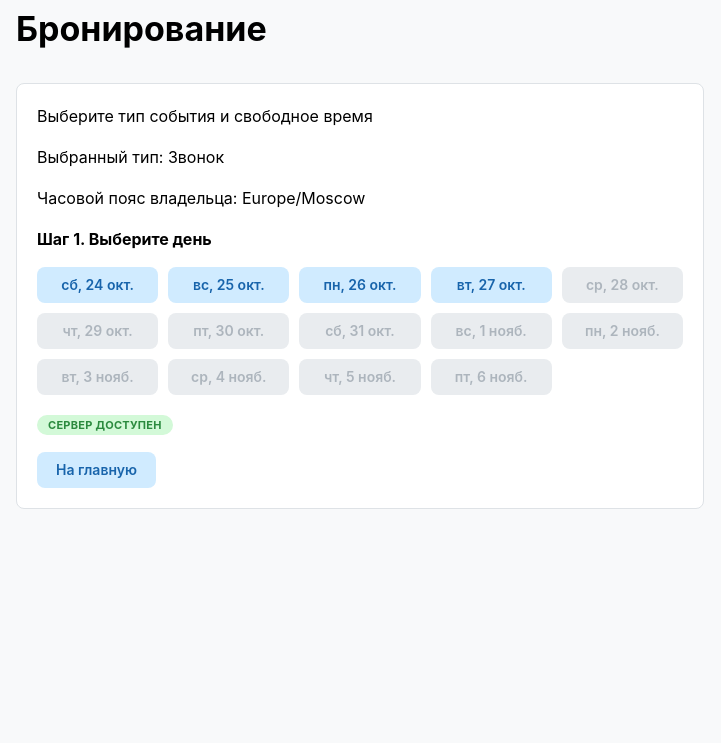
Test case: гость выбирает день и слот без прокрутки слотов других дней
Expected: the button "вс, 25 окт." is enabled, [168,267,289,303]
Expected: the button "6 ноя" is shown, [431,359,552,395]
Click the button "24 окт". click: (98, 285)
box: [37,267,158,303]
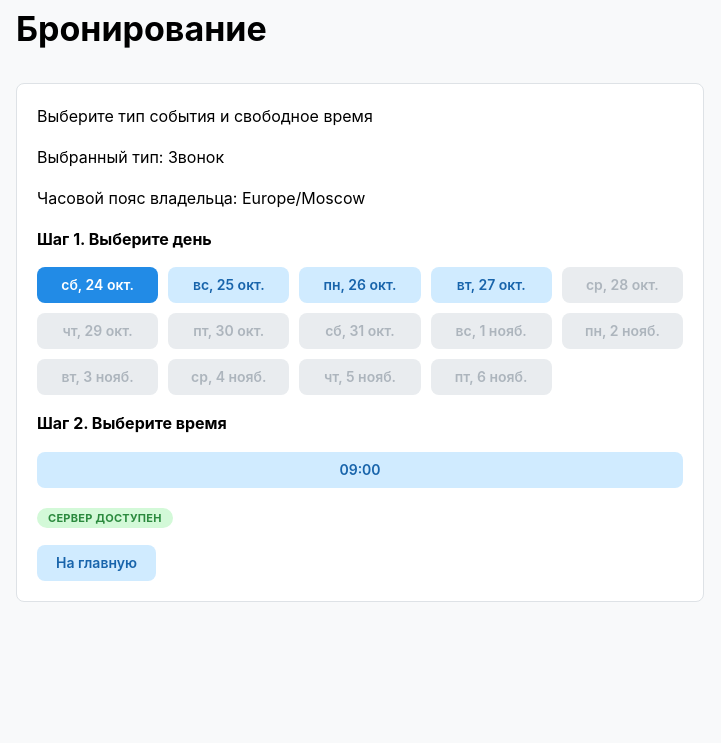
Now the button "09:00" is shown, box [37,452,683,488]
Click the button "пн, 26 окт.". click: (360, 285)
box: [299,267,421,303]
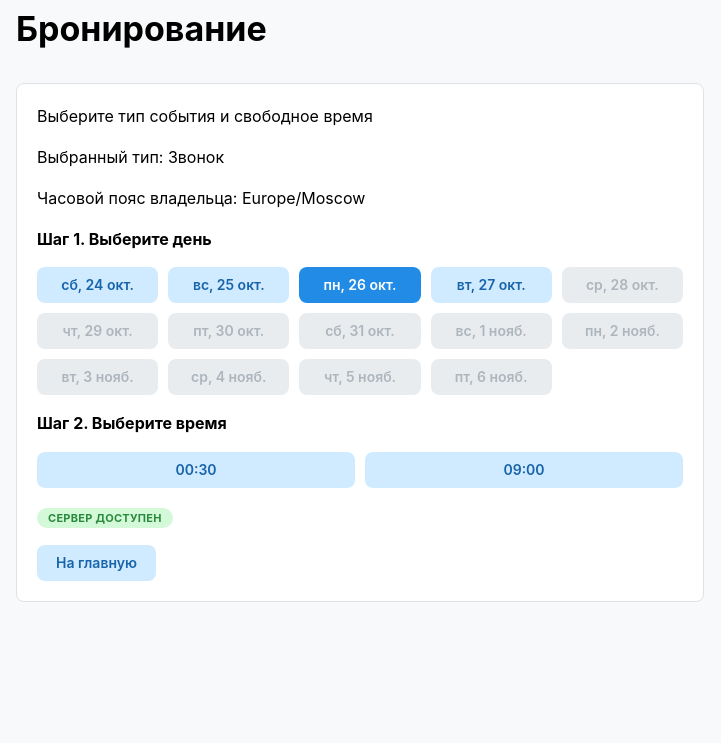
Now the text "Шаг 2. Выберите время" is shown, box [37,413,227,433]
Now the button "00:30" is shown, box [37,452,355,488]
Click the button "вт, 27 окт.". click: (491, 285)
box: [431,267,552,303]
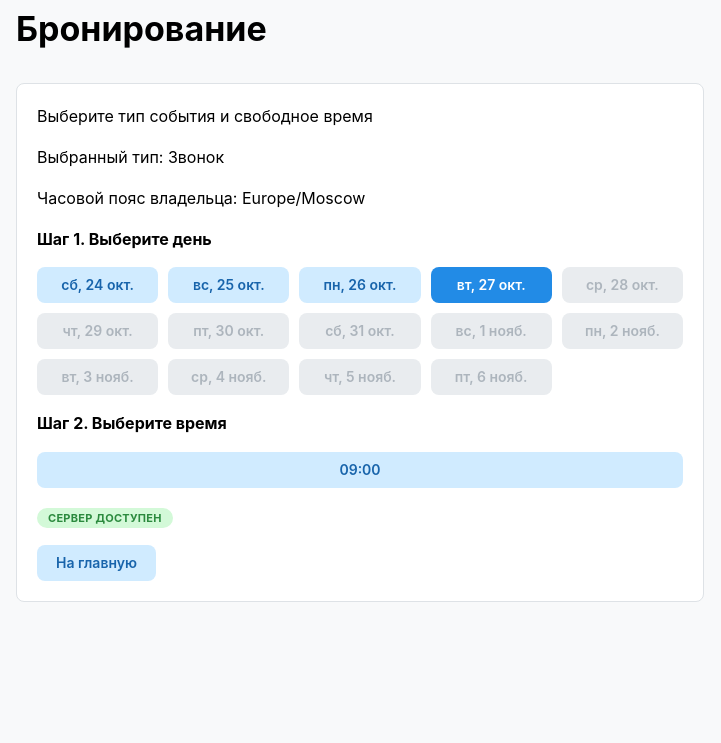
Now the button "вт, 27 окт." is pressed, box [431,267,552,303]
Click the button "09:00". click: (360, 470)
box: [37,452,683,488]
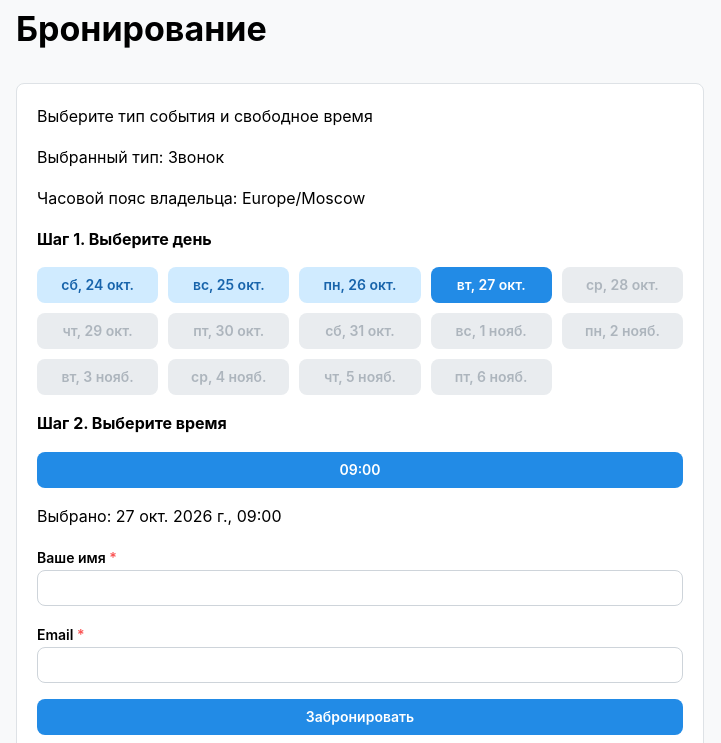
Now the text "Выбрано: 27 окт. 2026 г., 09:00" is shown, box [37,506,282,526]
Click the button "пн, 26 окт.". click: (360, 285)
box: [299,267,421,303]
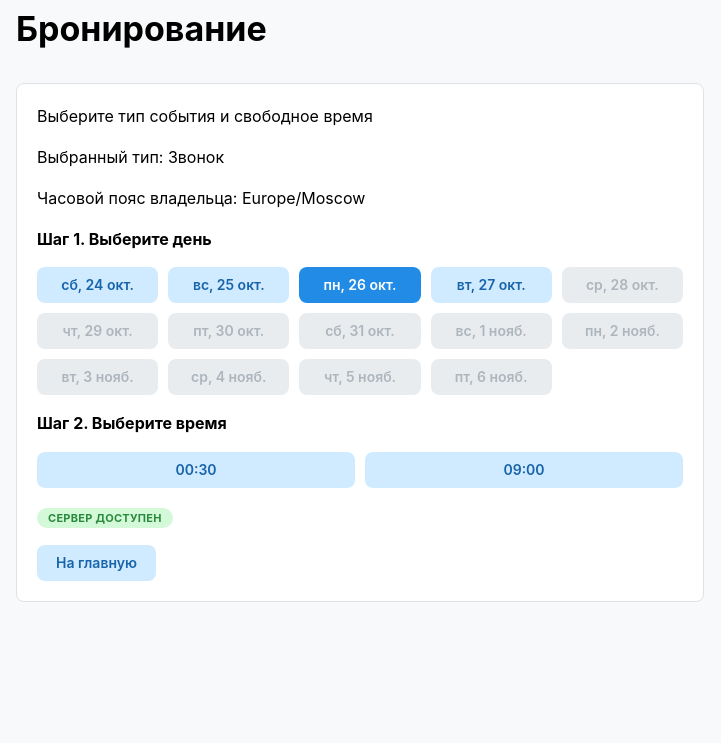
Now the text "Выбрано:" is gone
